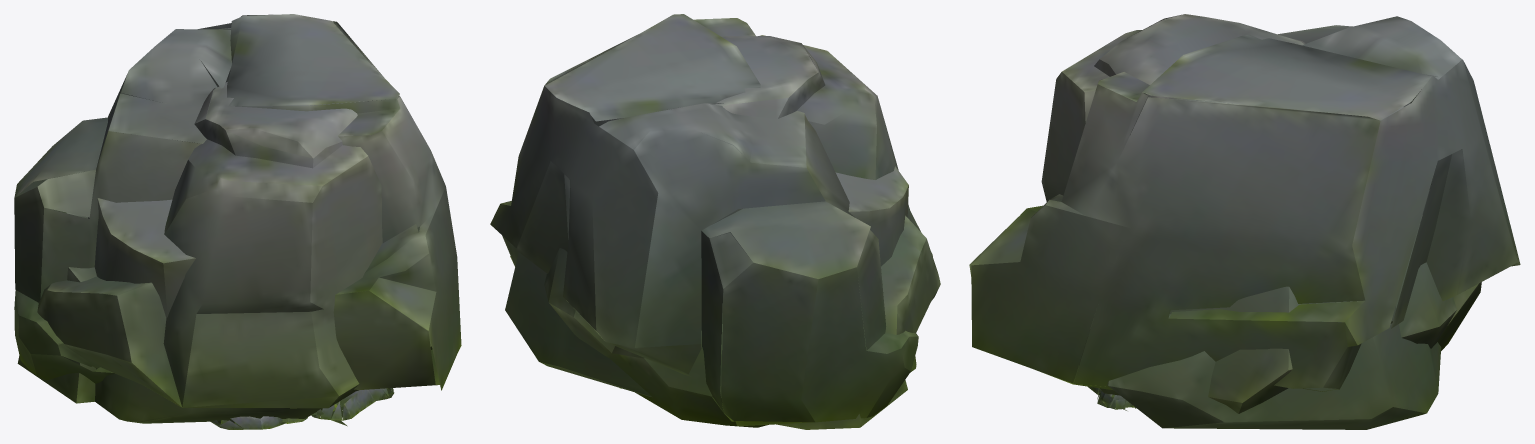
Rendered from natur_kit_steine.glb.
3 views of the same model, side by side, from view 1: azimuth 30°, elevation 25°; view 2: azimuth 150°, elevation 25°; view 3: azimuth 270°, elevation 25° (orthographic). The views are drawn at different scales.
Parts seen in each view (by area): view 1: KitFels3, KitFels1, KitFels2, Trittstein1, Trittstein2, Trittstein3; view 2: KitFels3, KitFels1, KitFels2; view 3: KitFels3, KitFels1, KitFels2.
Part boxes in pixels (<box>): KitFels3: <box>14,14,461,390</box>; KitFels1: <box>37,82,432,408</box>; KitFels2: <box>17,137,322,423</box>; Trittstein1: <box>311,389,375,426</box>; Trittstein2: <box>210,388,393,429</box>; Trittstein3: <box>282,388,394,423</box>; KitFels3: <box>490,14,918,426</box>; KitFels1: <box>544,35,940,427</box>; KitFels2: <box>505,166,916,429</box>; KitFels3: <box>969,16,1520,391</box>; KitFels1: <box>1041,14,1481,413</box>; KitFels2: <box>1107,103,1441,429</box>.
Bounding box in the file's own units: 2.05 × 1.41 × 2.09.
Materials: 2 (2 with a texture image).
